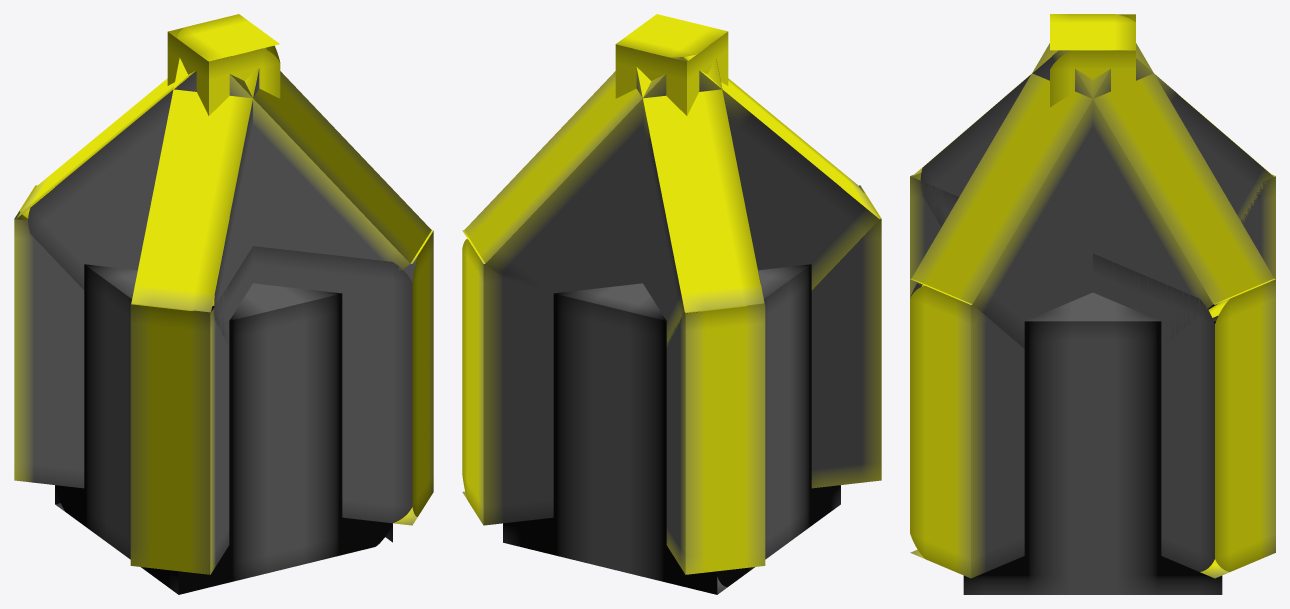
Rendered from missile_head_incen.obj.
3 renders of one model, left to right at view 1: azimuth 30°, elevation 25°; view 2: azimuth 150°, elevation 25°; view 3: azimuth 270°, elevation 25°, orthographic. The views are drawn at different scales.
Parts seen in each view (by area): view 1: Component_14, Component_15, group_24, group_23; view 2: Component_14, Component_15, group_24, group_23; view 3: Component_14, Component_15, group_24, group_23.
Boxes of the visible parts, x1,y1,x2,y2 form: Component_14: [14, 185, 433, 574]; Component_15: [16, 43, 431, 343]; group_24: [55, 264, 392, 594]; group_23: [167, 14, 280, 243]; Component_14: [462, 185, 881, 574]; Component_15: [464, 43, 879, 345]; group_24: [503, 264, 840, 594]; group_23: [615, 14, 728, 115]; Component_14: [910, 174, 1275, 578]; Component_15: [911, 43, 1274, 348]; group_24: [963, 292, 1222, 594]; group_23: [1050, 14, 1135, 107].
Bounding box in the file's own units: 53.45 × 81.89 × 53.45.
